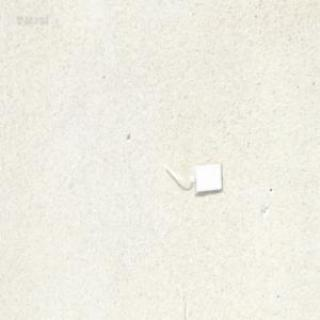LuggageTagtrack_idkeyframe: (163, 160, 222, 194)
